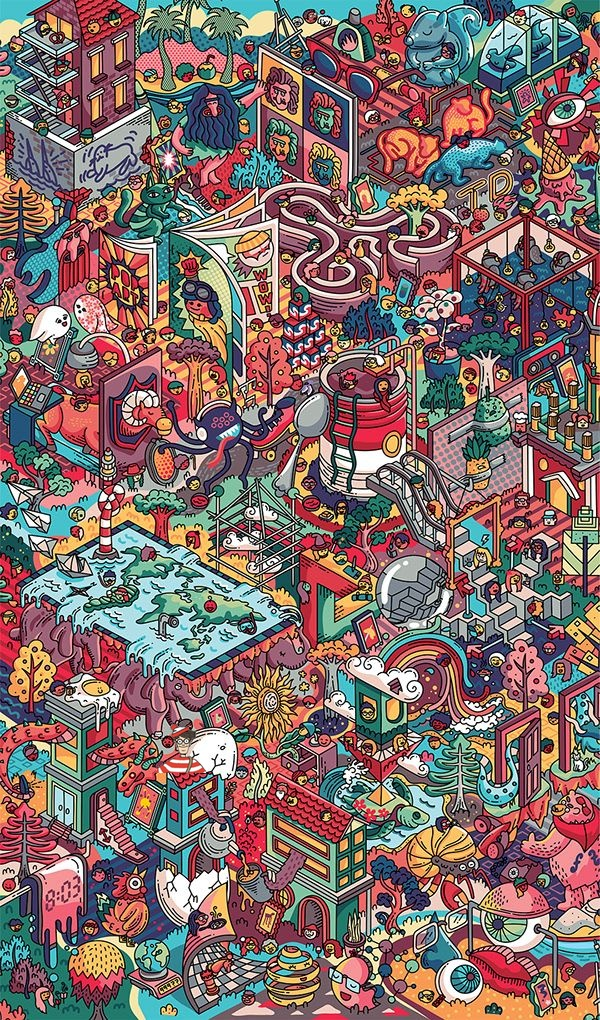waldo: (156, 723, 206, 773)
